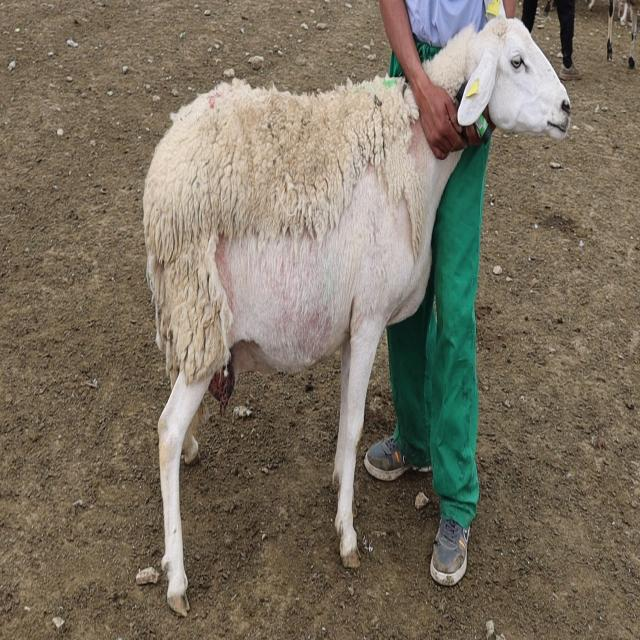Score_4: (143, 77, 462, 615)
